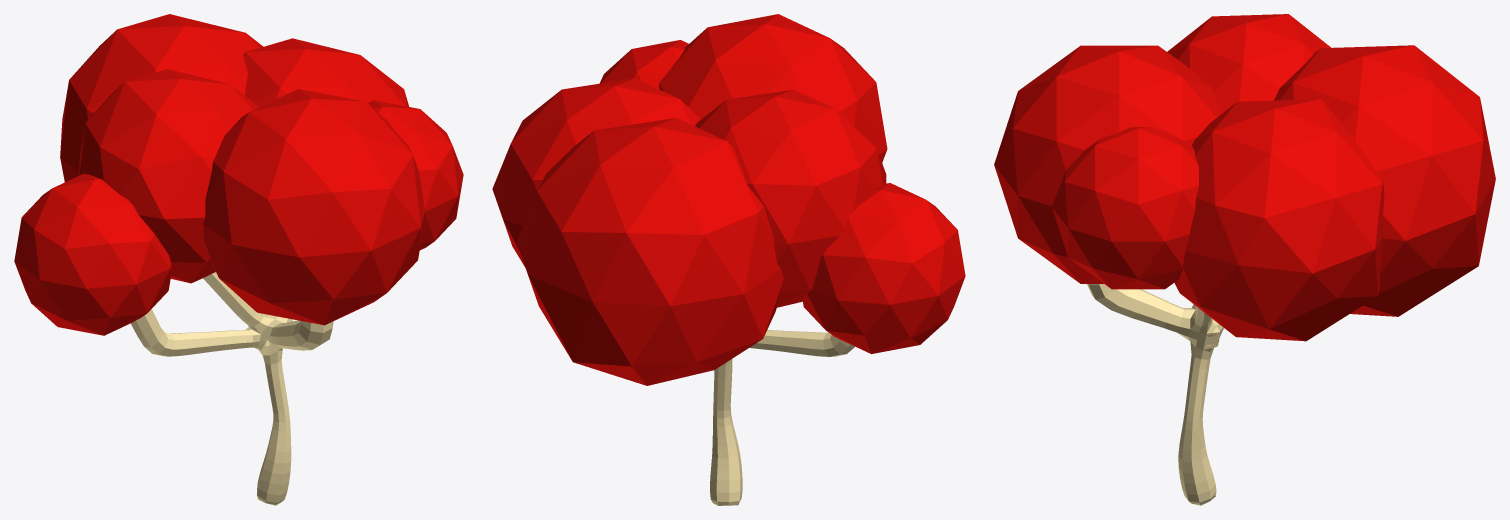
Rendered from LowPolyTree2.fbx.
3 views of the same model, side by side, from view 1: azimuth 30°, elevation 25°; view 2: azimuth 150°, elevation 25°; view 3: azimuth 270°, elevation 25° (orthographic). The views are drawn at different scales.
Parts seen in each view (by area): view 1: Trunk; view 2: Trunk; view 3: Trunk.
Boxes of the visible parts, left/top/right/bottom form: Trunk: left=14, top=14, right=463, bottom=505; Trunk: left=492, top=14, right=965, bottom=505; Trunk: left=994, top=14, right=1495, bottom=505.
Bounding box in the file's own units: 843 × 868 × 876.
